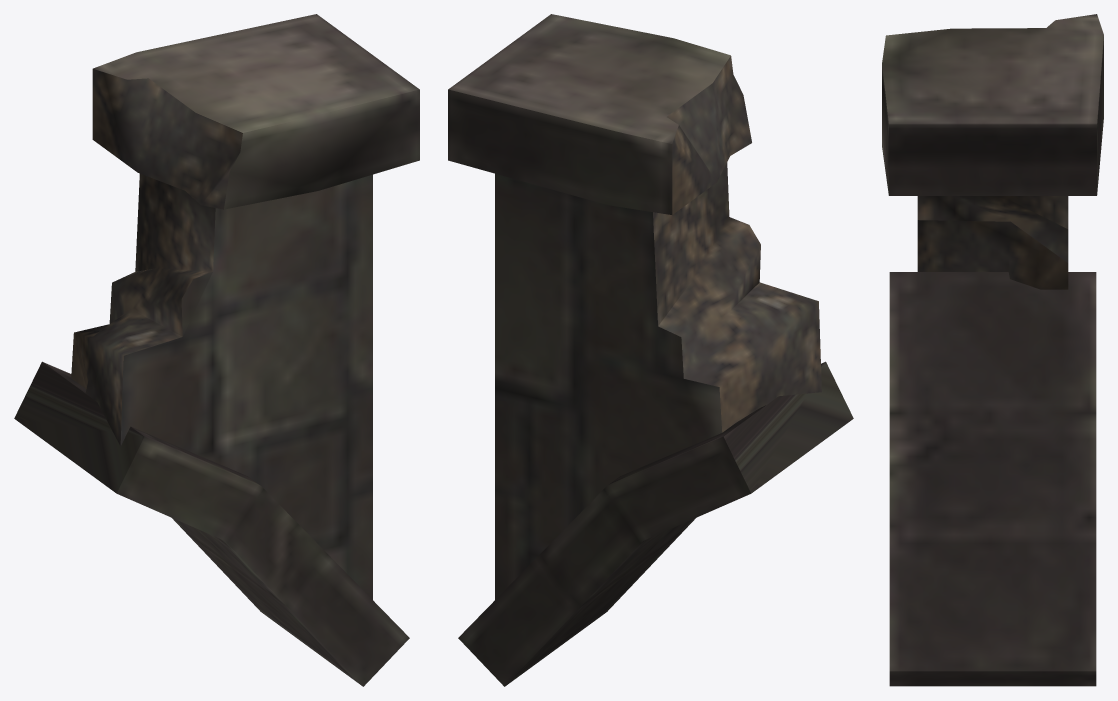
Rendered from jianzhu06.FBX.
3 views of the same model, side by side, from view 1: azimuth 30°, elevation 25°; view 2: azimuth 150°, elevation 25°; view 3: azimuth 270°, elevation 25° (orthographic).
Visible parts, largest first — view 1: Object01; view 2: Object01; view 3: Object01.
Part boxes in pixels (x1,y1,x2,y2): Object01: [14, 14, 419, 686]; Object01: [448, 14, 853, 686]; Object01: [882, 14, 1103, 686].
Size of the model in its own units: 8.92 by 16.5 by 5.6.
